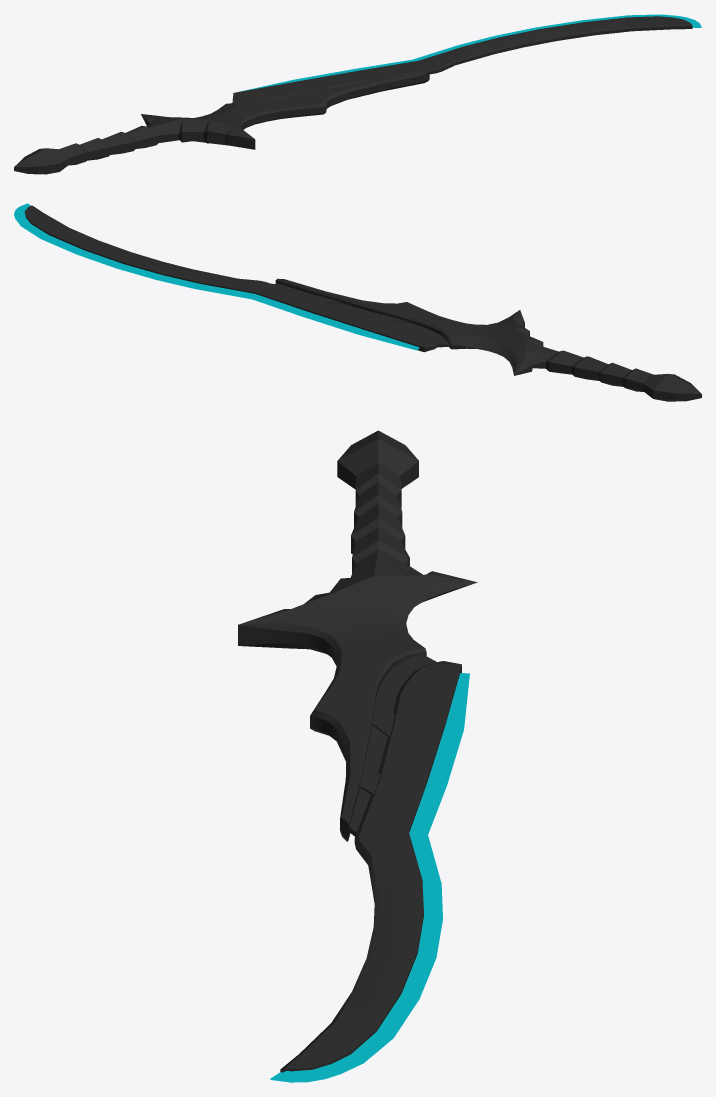
The model's file is Blade of Chaos.fbx.
3 views of the same model, one above another, from view 1: azimuth 30°, elevation 25°; view 2: azimuth 150°, elevation 25°; view 3: azimuth 270°, elevation 25° (orthographic). The views are drawn at different scales.
Visible parts, largest first — view 1: weap1_dagger; view 2: weap1_dagger; view 3: weap1_dagger.
Part boxes in pixels (box(x1,y1,x2,y2)): weap1_dagger: box(14, 14, 701, 174); weap1_dagger: box(14, 203, 701, 401); weap1_dagger: box(238, 430, 477, 1082).
Size of the model in its own units: 37.93 by 1.44 by 5.94.
